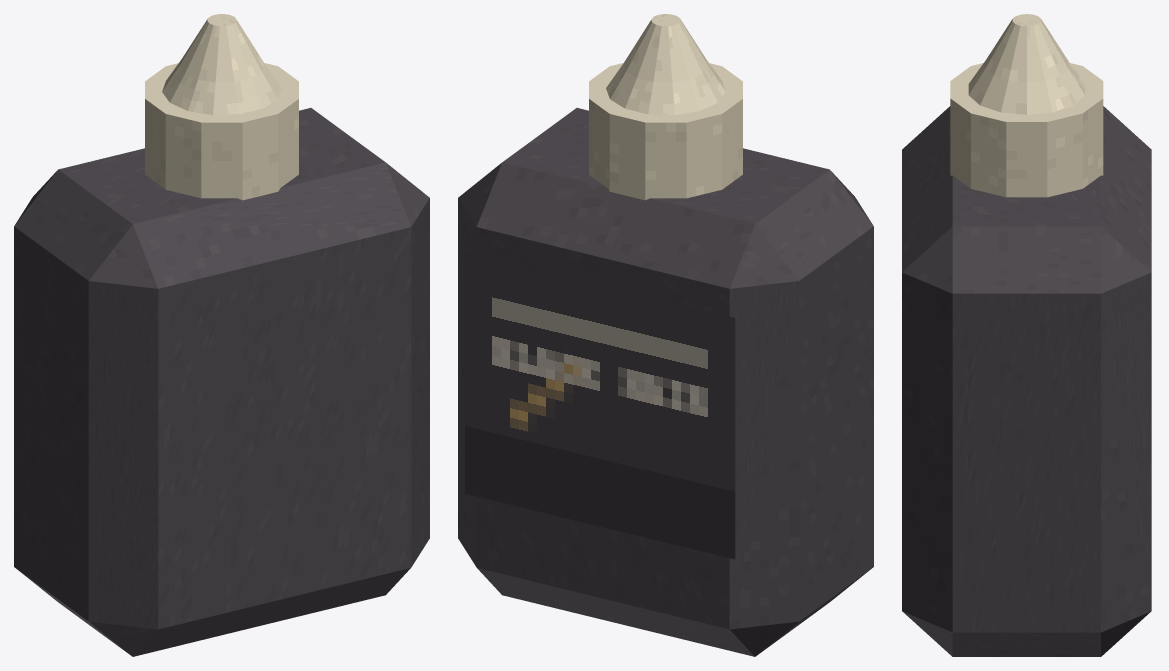
The model's file is hair_dye_black.glb.
3 views of the same model, side by side, from view 1: azimuth 30°, elevation 25°; view 2: azimuth 150°, elevation 25°; view 3: azimuth 270°, elevation 25° (orthographic).
Visible parts, largest first — view 1: block_squeeze bottle, block_pointed dispenser, block_dispenser tip; view 2: block_squeeze bottle, block_salon dye label, block_pointed dispenser, block_dispenser tip; view 3: block_squeeze bottle, block_pointed dispenser, block_dispenser tip.
Boxes of the visible parts, box(x1,y1,x2,y2) form: block_squeeze bottle: box(14, 108, 429, 656); block_pointed dispenser: box(145, 63, 298, 200); block_dispenser tip: box(155, 14, 281, 130); block_squeeze bottle: box(458, 108, 873, 656); block_salon dye label: box(465, 252, 735, 559); block_pointed dispenser: box(589, 63, 742, 200); block_dispenser tip: box(606, 14, 732, 130); block_squeeze bottle: box(902, 106, 1151, 656); block_pointed dispenser: box(950, 63, 1103, 197); block_dispenser tip: box(968, 14, 1085, 146).
Size of the model in its own units: 0.0742 by 0.1203 by 0.0479.
1 material, 1 textured.
